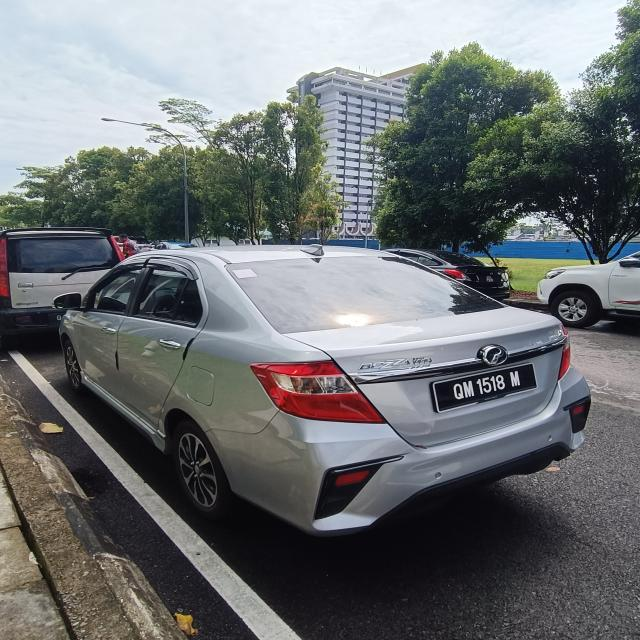PeroduaBezza: (52, 242, 592, 538)
